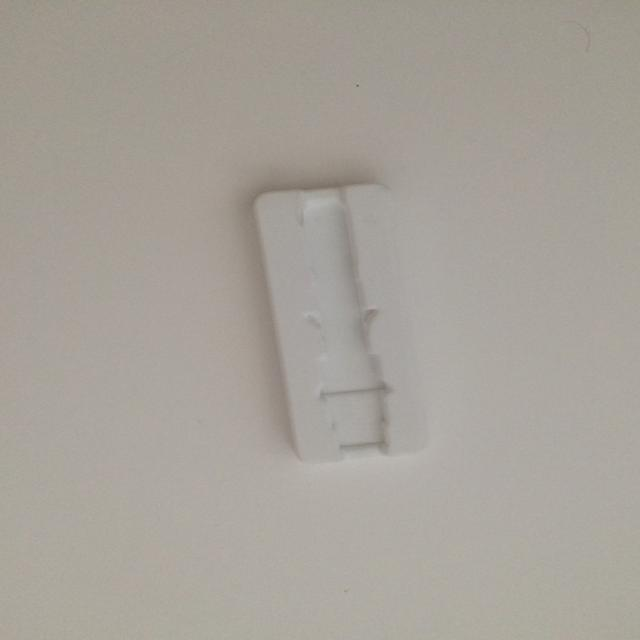plastic: (250, 182, 417, 464)
